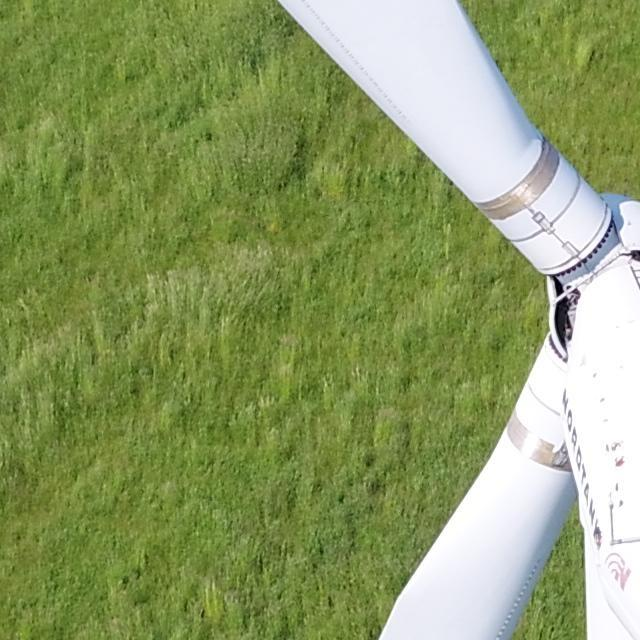damage: (576, 352, 591, 369), (608, 502, 616, 526), (615, 455, 625, 469), (611, 441, 622, 452), (616, 500, 624, 507), (605, 443, 610, 454), (615, 481, 619, 491)
